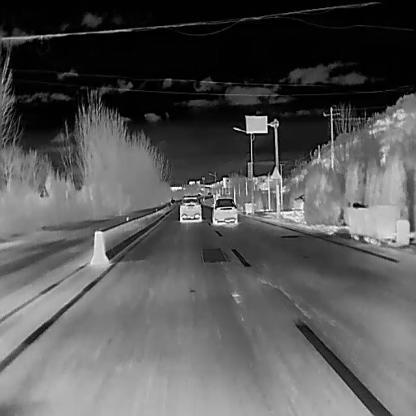car: (212, 197, 237, 224), (179, 195, 202, 221), (170, 198, 175, 204), (207, 191, 211, 194), (197, 194, 201, 197)
